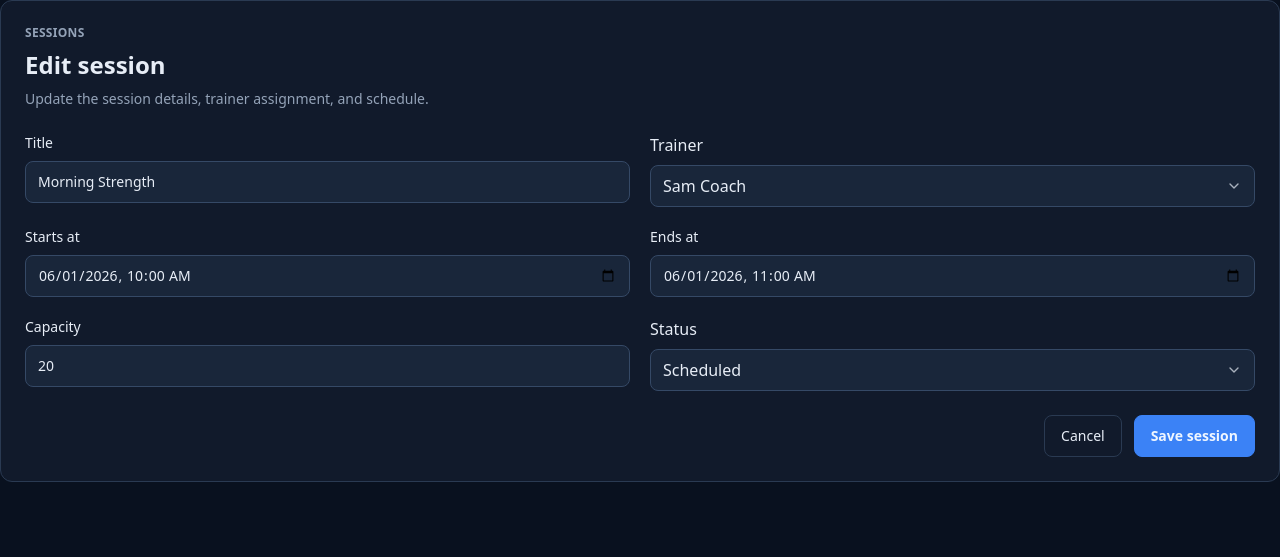
EditSessionForm › renders action-level failure message
Click the button "Save session": coordinates (1194, 436) [1134,415,1255,457]
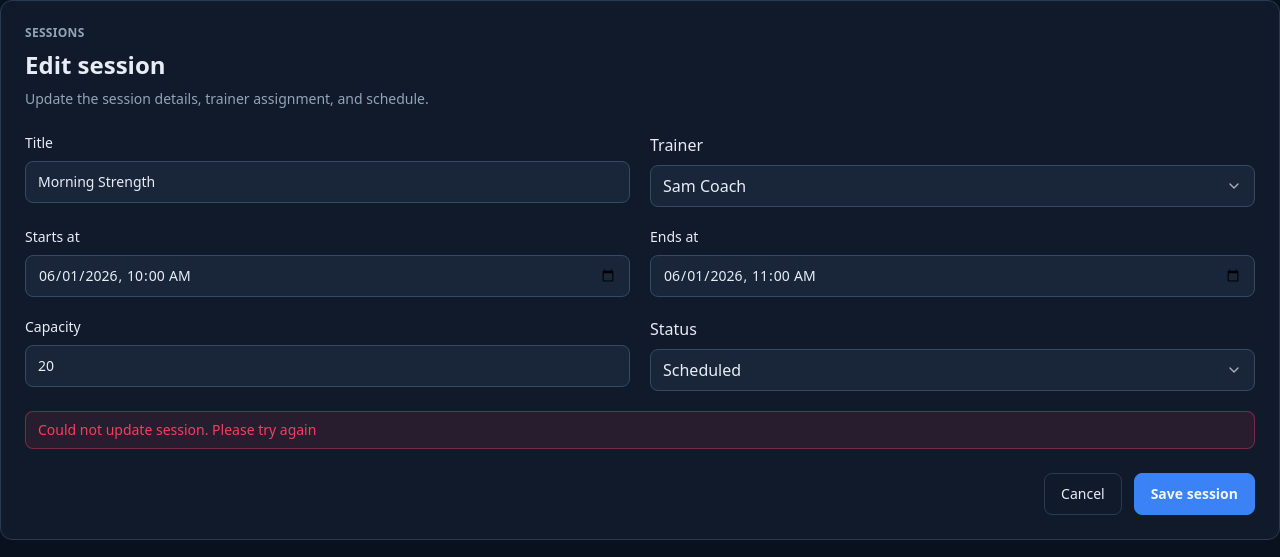
Expected: the message reads "Could not update session. Please try again", [38,420,316,439]
